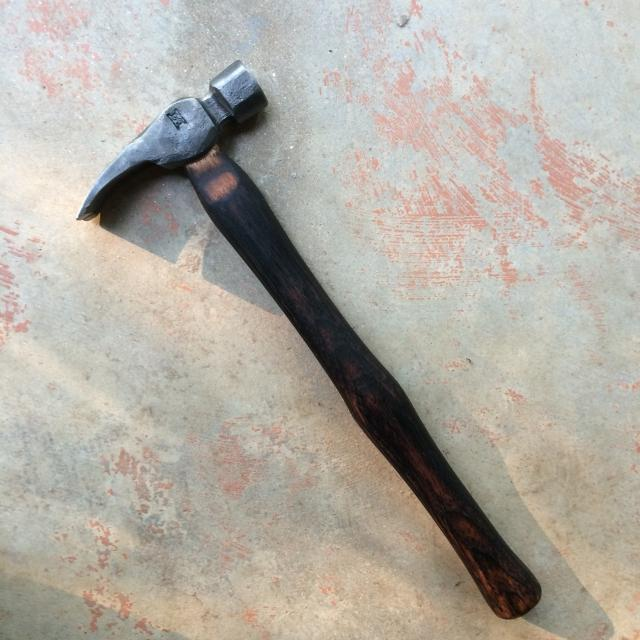hammer: (67, 53, 546, 626)
